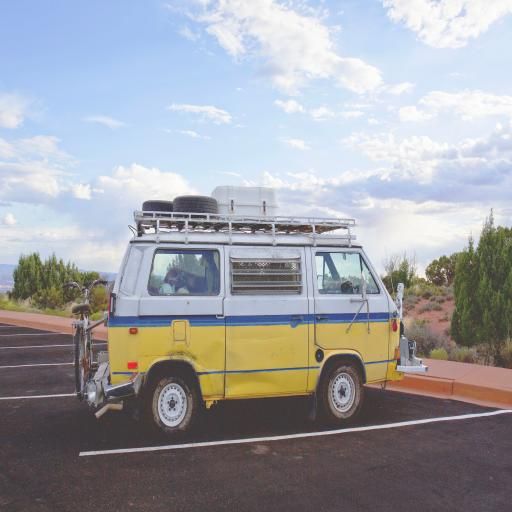van: (69, 183, 431, 437)
